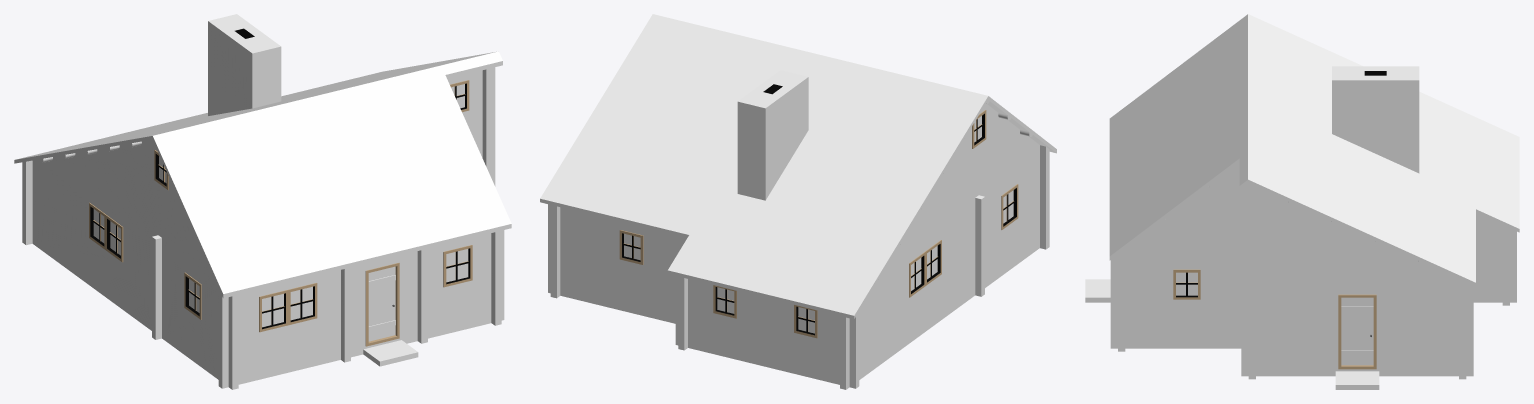
3 views of the same model, side by side, from view 1: azimuth 30°, elevation 25°; view 2: azimuth 150°, elevation 25°; view 3: azimuth 270°, elevation 25° (orthographic). The views are drawn at different scales.
Visible parts, largest first — view 1: Layer0_001, Roof_001, Second Floor_001; view 2: Roof_001, Layer0_001, Second Floor_001; view 3: Roof_001, Layer0_001, Second Floor_001.
Boxes of the visible parts, x1=… form: Layer0_001: x1=22, y1=159, x2=504, y2=389; Roof_001: x1=14, y1=14, x2=502, y2=224; Second Floor_001: x1=45, y1=79, x2=511, y2=299; Roof_001: x1=540, y1=14, x2=1025, y2=319; Layer0_001: x1=548, y1=159, x2=1049, y2=389; Second Floor_001: x1=548, y1=109, x2=1056, y2=275; Roof_001: x1=1173, y1=14, x2=1519, y2=286; Layer0_001: x1=1085, y1=213, x2=1516, y2=389; Second Floor_001: x1=1109, y1=70, x2=1476, y2=290.
Size of the model in its own units: 11582 by 6706 by 12160.
